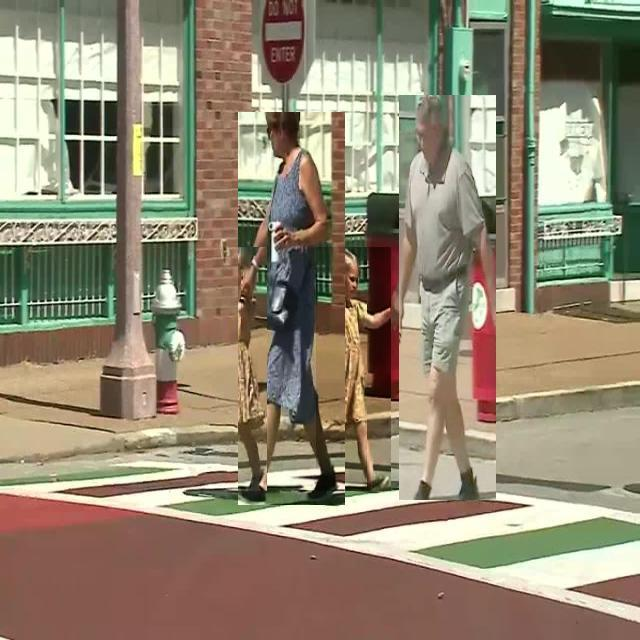without scooter: (238, 112, 345, 505), (399, 96, 496, 500), (316, 247, 391, 491)
